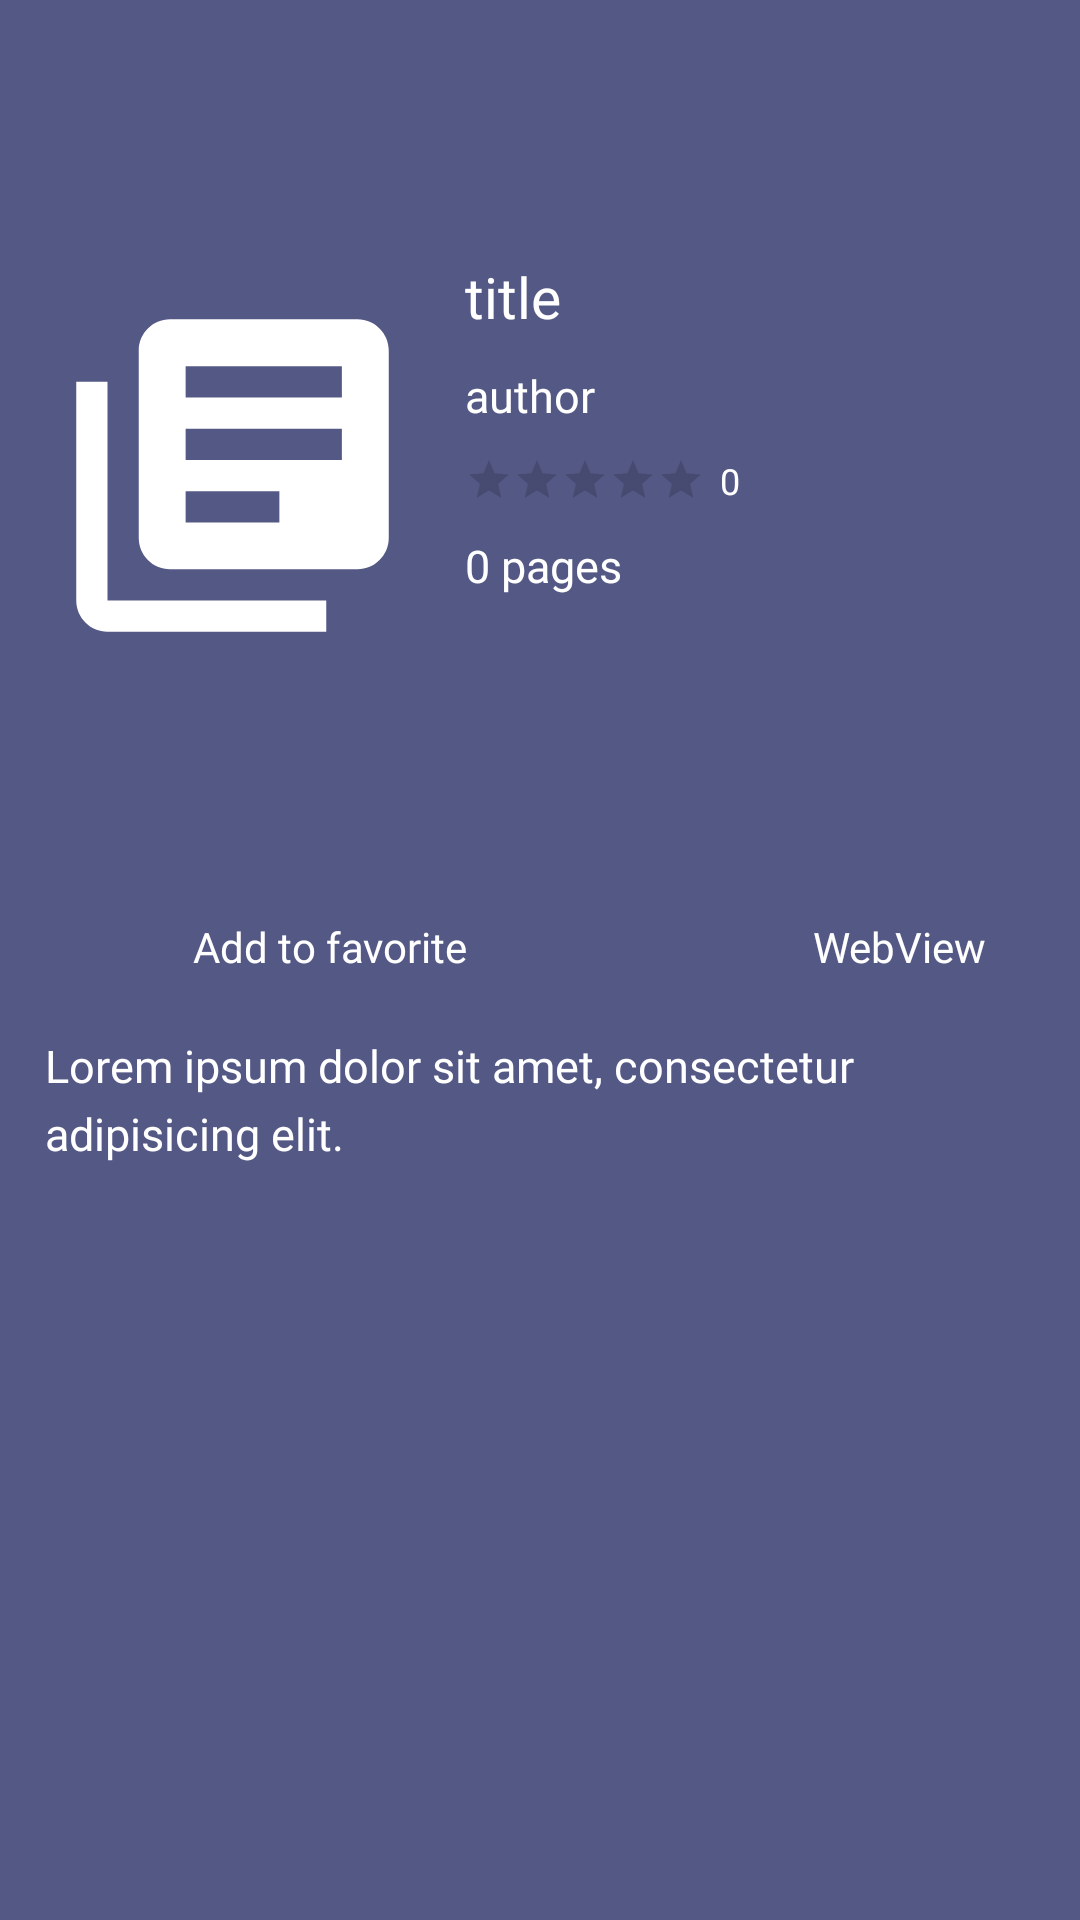

Screen size 1080x1920. Icon name, then its center in pixels as (x=x, y=y):
book: (x=232, y=475)
